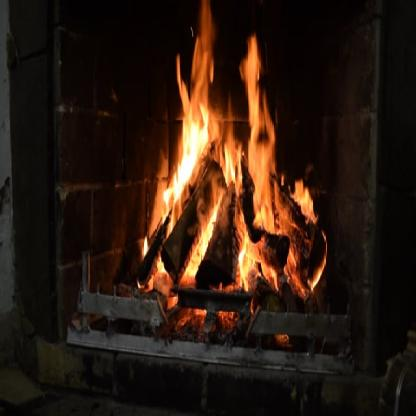fire: (134, 0, 323, 298)
